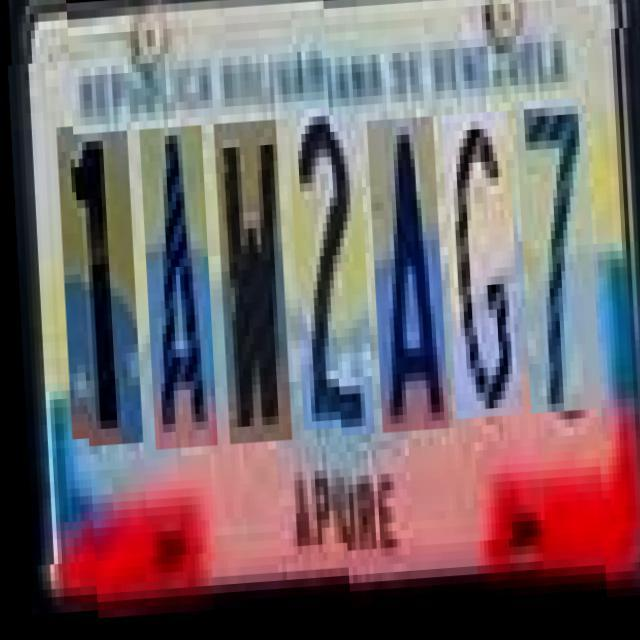1: (55, 132, 138, 448)
2: (286, 111, 369, 435)
7: (513, 98, 596, 414)
A: (365, 114, 444, 430), (138, 128, 212, 452)
G: (440, 111, 518, 418)
W: (212, 124, 287, 448)
